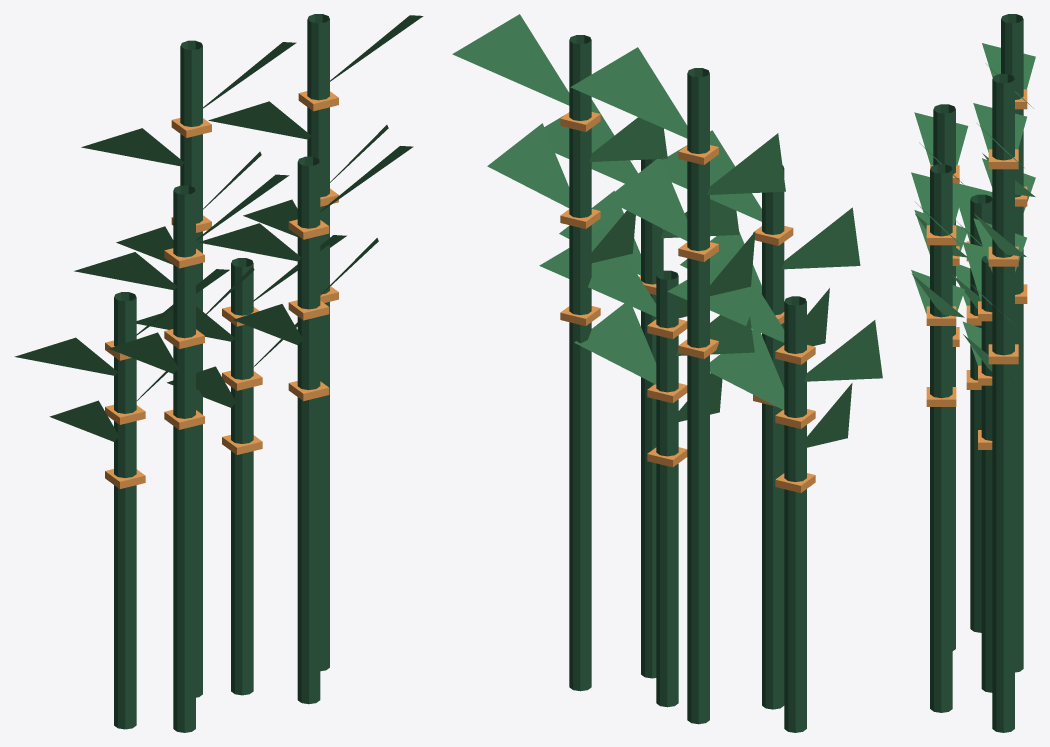
Rendered from moonfall_bamboo_fan.obj.
3 views of the same model, side by side, from view 1: azimuth 30°, elevation 25°; view 2: azimuth 150°, elevation 25°; view 3: azimuth 270°, elevation 25° (orthographic).
Visible parts, largest first — view 1: moonfall_bamboo_fan; view 2: moonfall_bamboo_fan; view 3: moonfall_bamboo_fan.
Part boxes in pixels (bbox=[...]): moonfall_bamboo_fan: bbox=[14, 14, 423, 732]; moonfall_bamboo_fan: bbox=[452, 14, 882, 732]; moonfall_bamboo_fan: bbox=[911, 14, 1035, 732].
Bounding box in the file's own units: 7.2 × 10.6 × 1.85.
